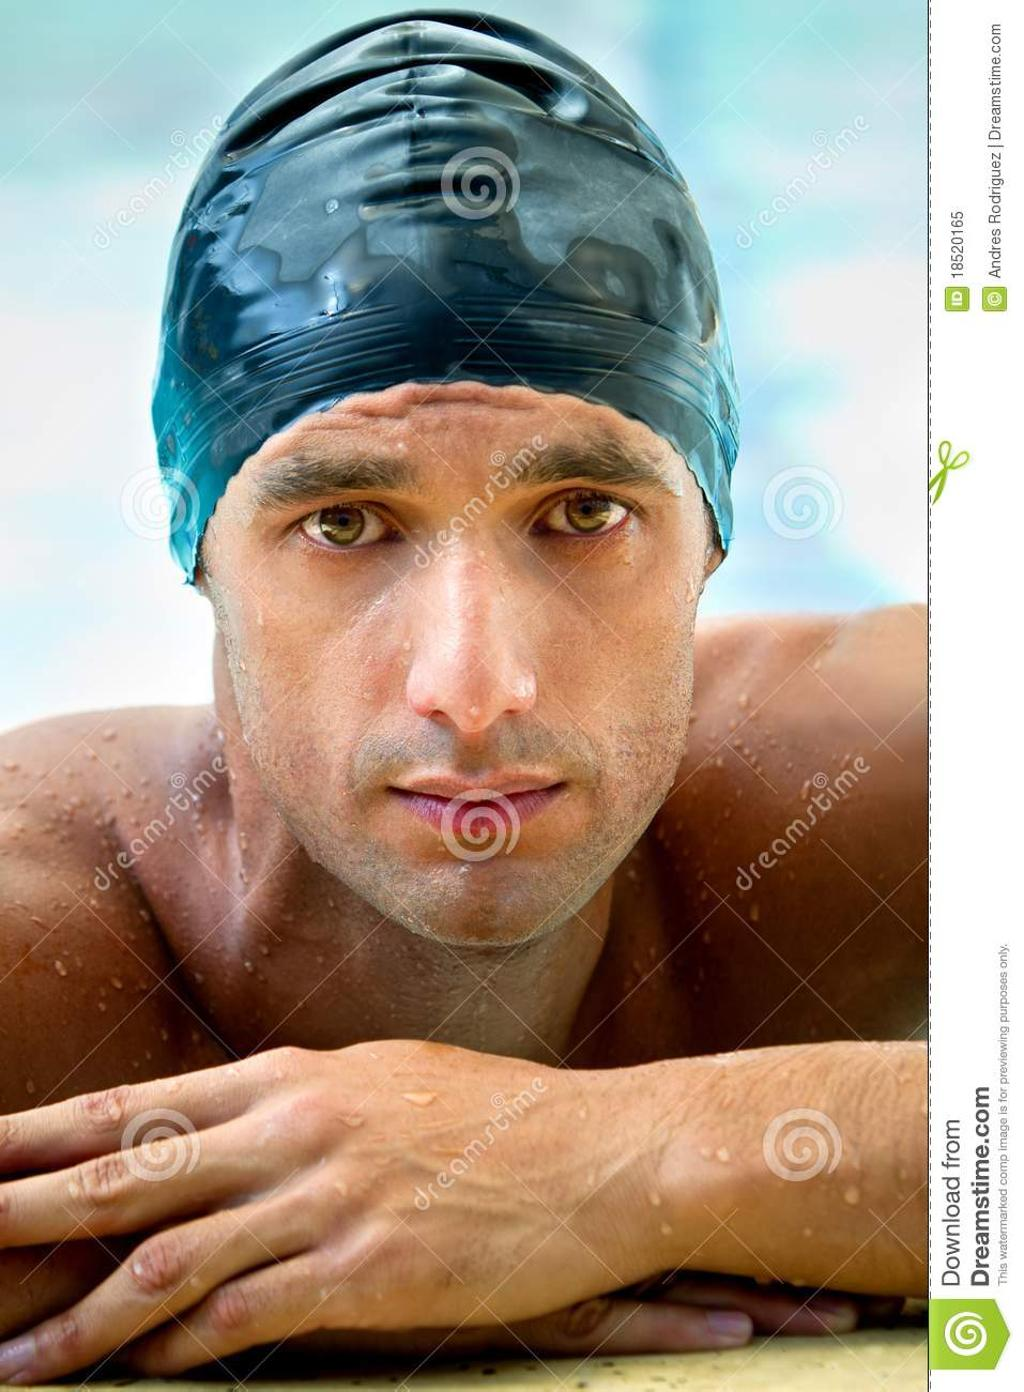face: (223, 315, 712, 942)
